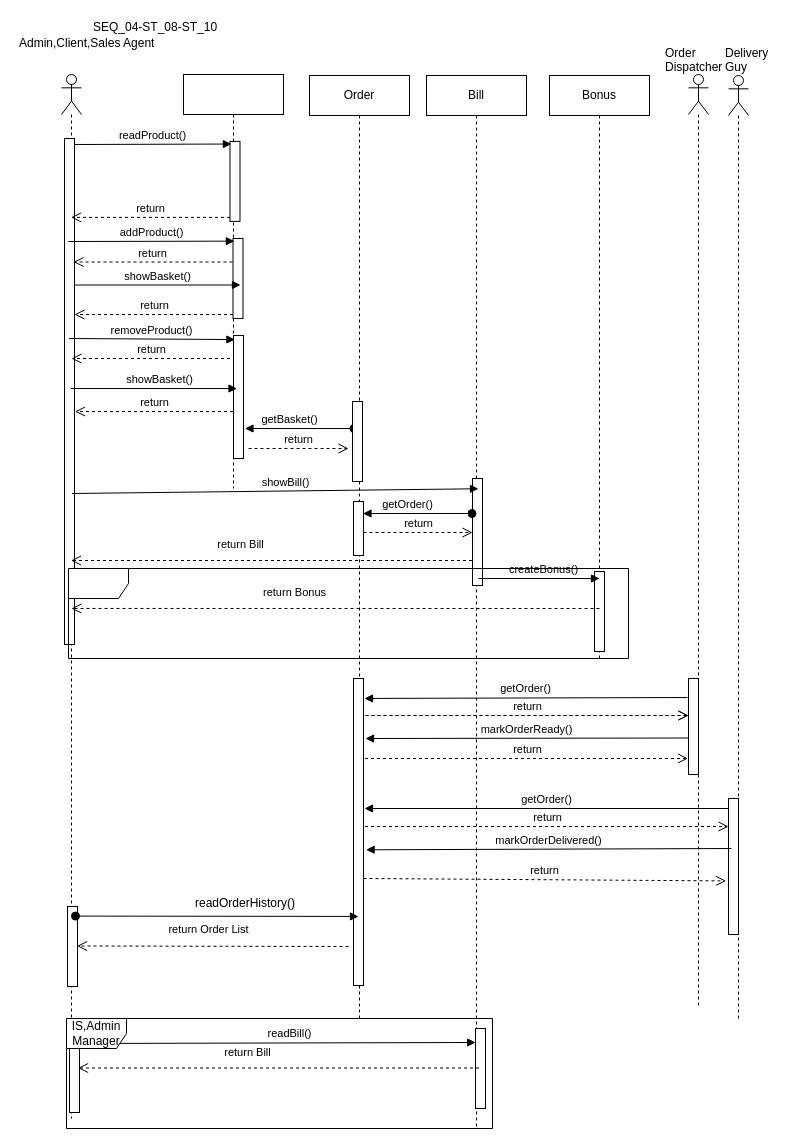
Some shapes in this 801 by 1146 pixel diagram are drawn without their labels. Each missing label, with the centre of its shape:
Product: the point at 233,281
SA creates Order: the point at 348,613
